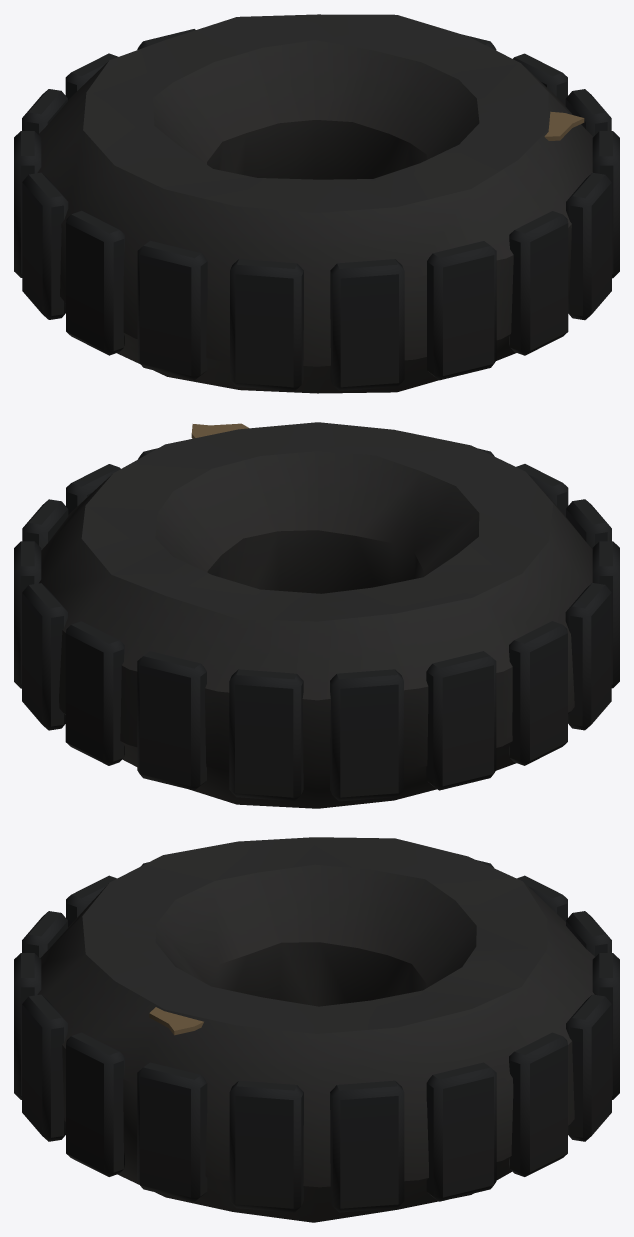
The model's file is 24_pneu.fbx.
3 views of the same model, one above another, from view 1: azimuth 30°, elevation 25°; view 2: azimuth 150°, elevation 25°; view 3: azimuth 270°, elevation 25° (orthographic).
Parts seen in each view (by area): view 1: Pneu; view 2: Pneu; view 3: Pneu.
Part boxes in pixels (left/top/right/bottom): Pneu: left=14, top=14, right=619, bottom=393; Pneu: left=14, top=422, right=619, bottom=808; Pneu: left=14, top=837, right=619, bottom=1222.
Bounding box in the file's own units: 0.728 × 0.252 × 0.728.
1 material, 1 textured.
